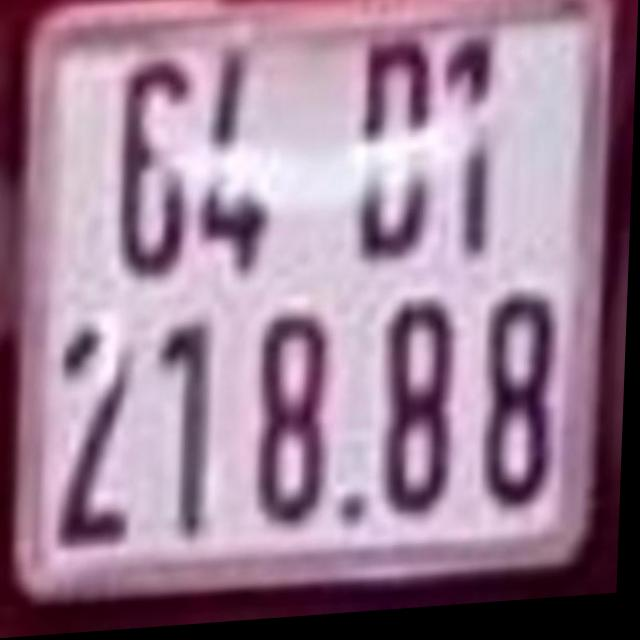1: (157, 320, 218, 538), (441, 43, 494, 265)
2: (60, 325, 141, 553)
4: (198, 55, 274, 276)
6: (121, 57, 192, 278)
8: (379, 300, 463, 522), (258, 316, 333, 535), (489, 297, 560, 517)
D: (363, 46, 435, 270)
